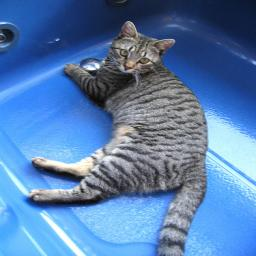catnose: (123, 64, 133, 72)
